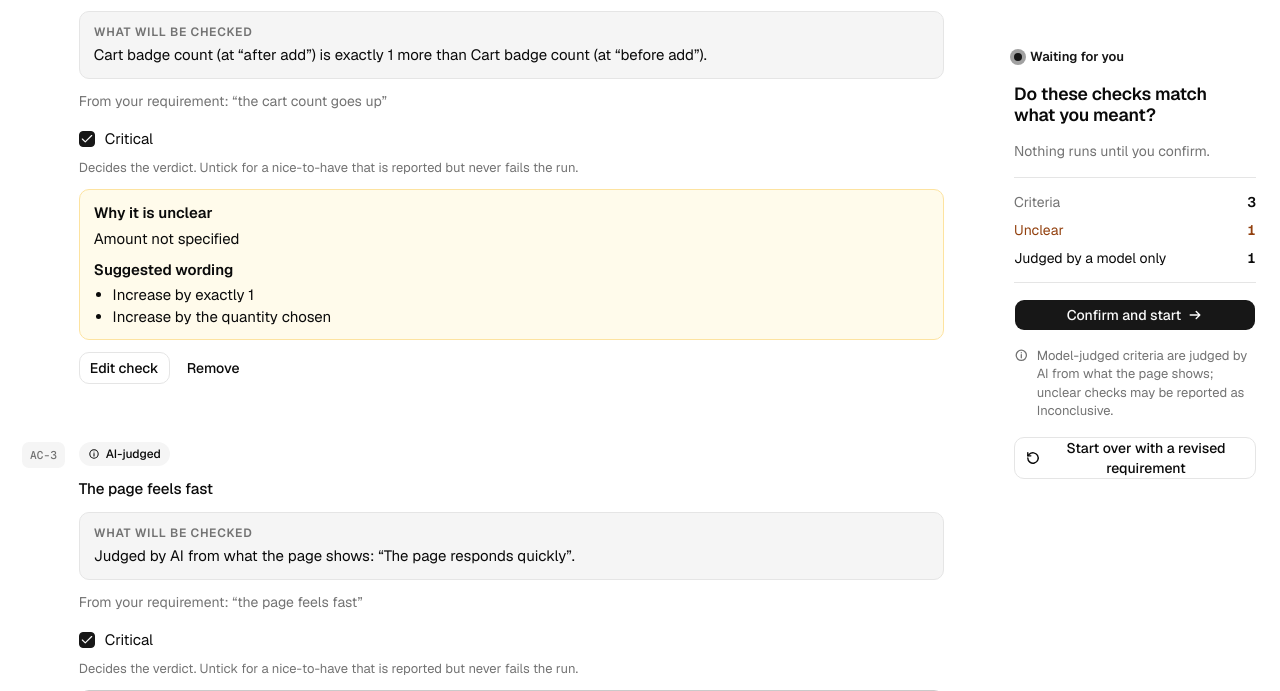
it: CriteriaReview › shows the API's 400 inline in the editor and keeps it open
(page scrolled)
Click the button with aria-label "Edit check AC-2" at (124,368), box [79,352,170,384]
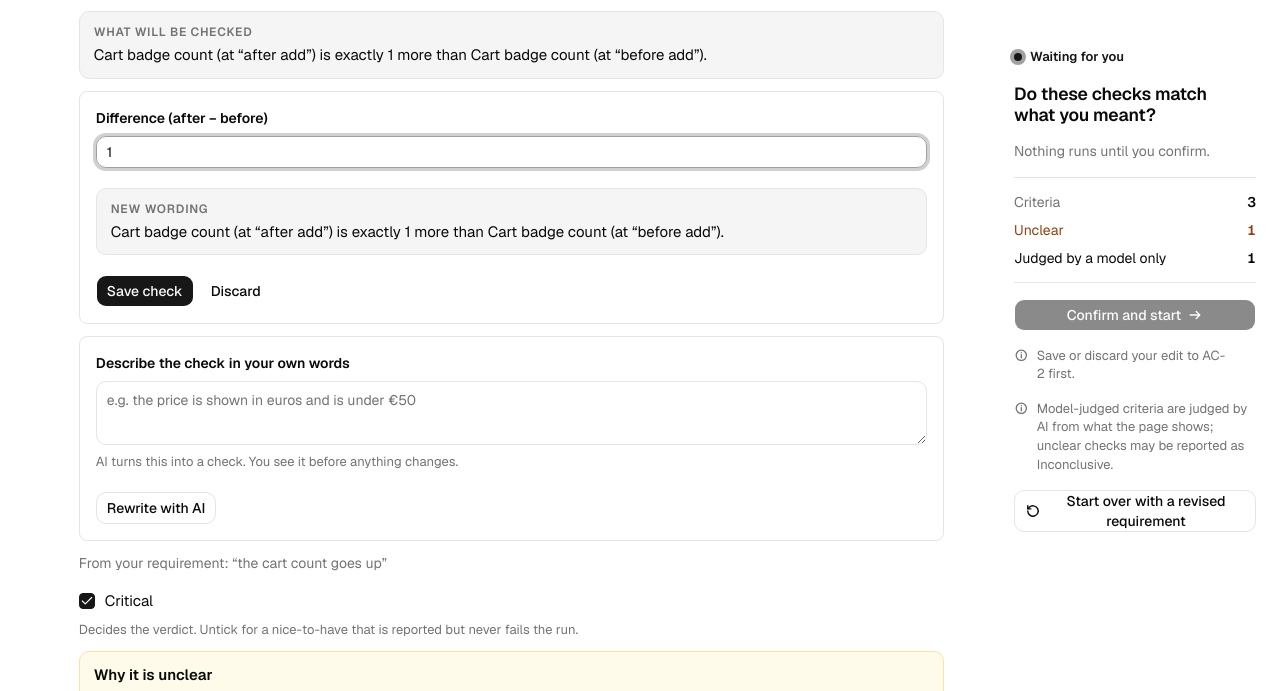
Replace the text in the field labelled "Difference (after − before)" with "2" at (511,152), box [96,136,927,168]
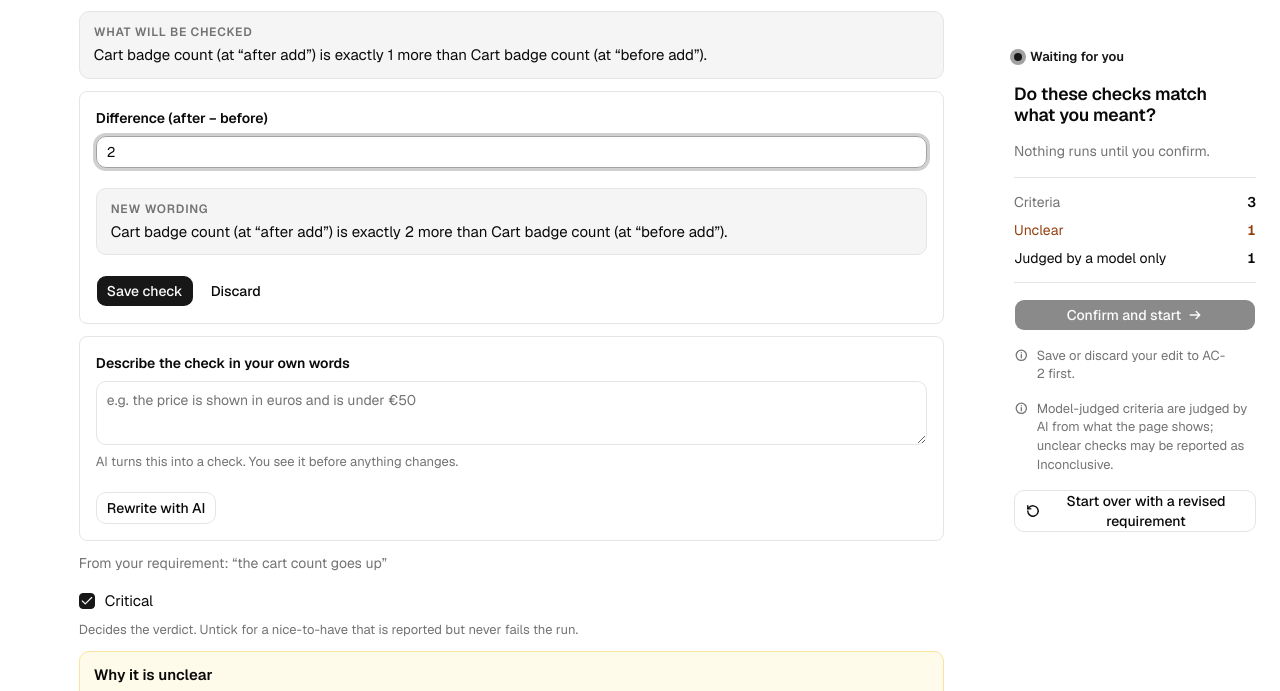
Click the button "Save check" at (145,291), box [96,275,194,307]
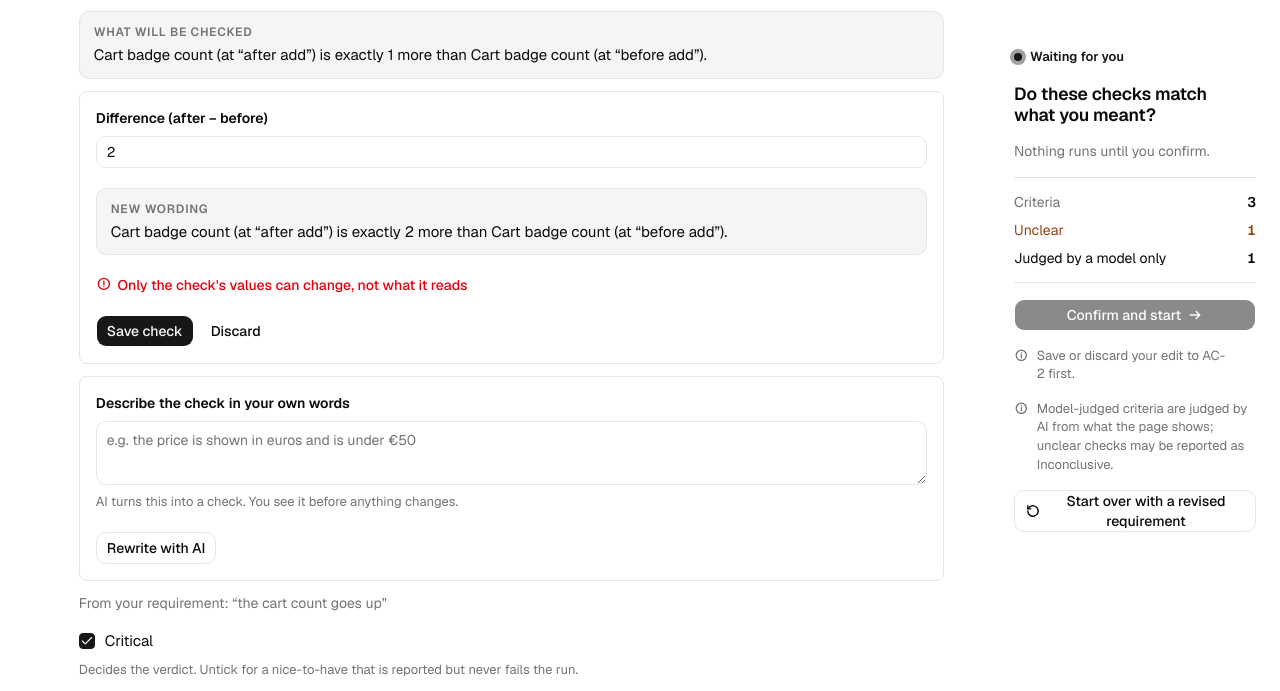
Check: the button "Save check" is shown, box [96,315,194,347]
Check: the message reads "Only the check's values can change, not what it reads", box [118,276,468,294]
